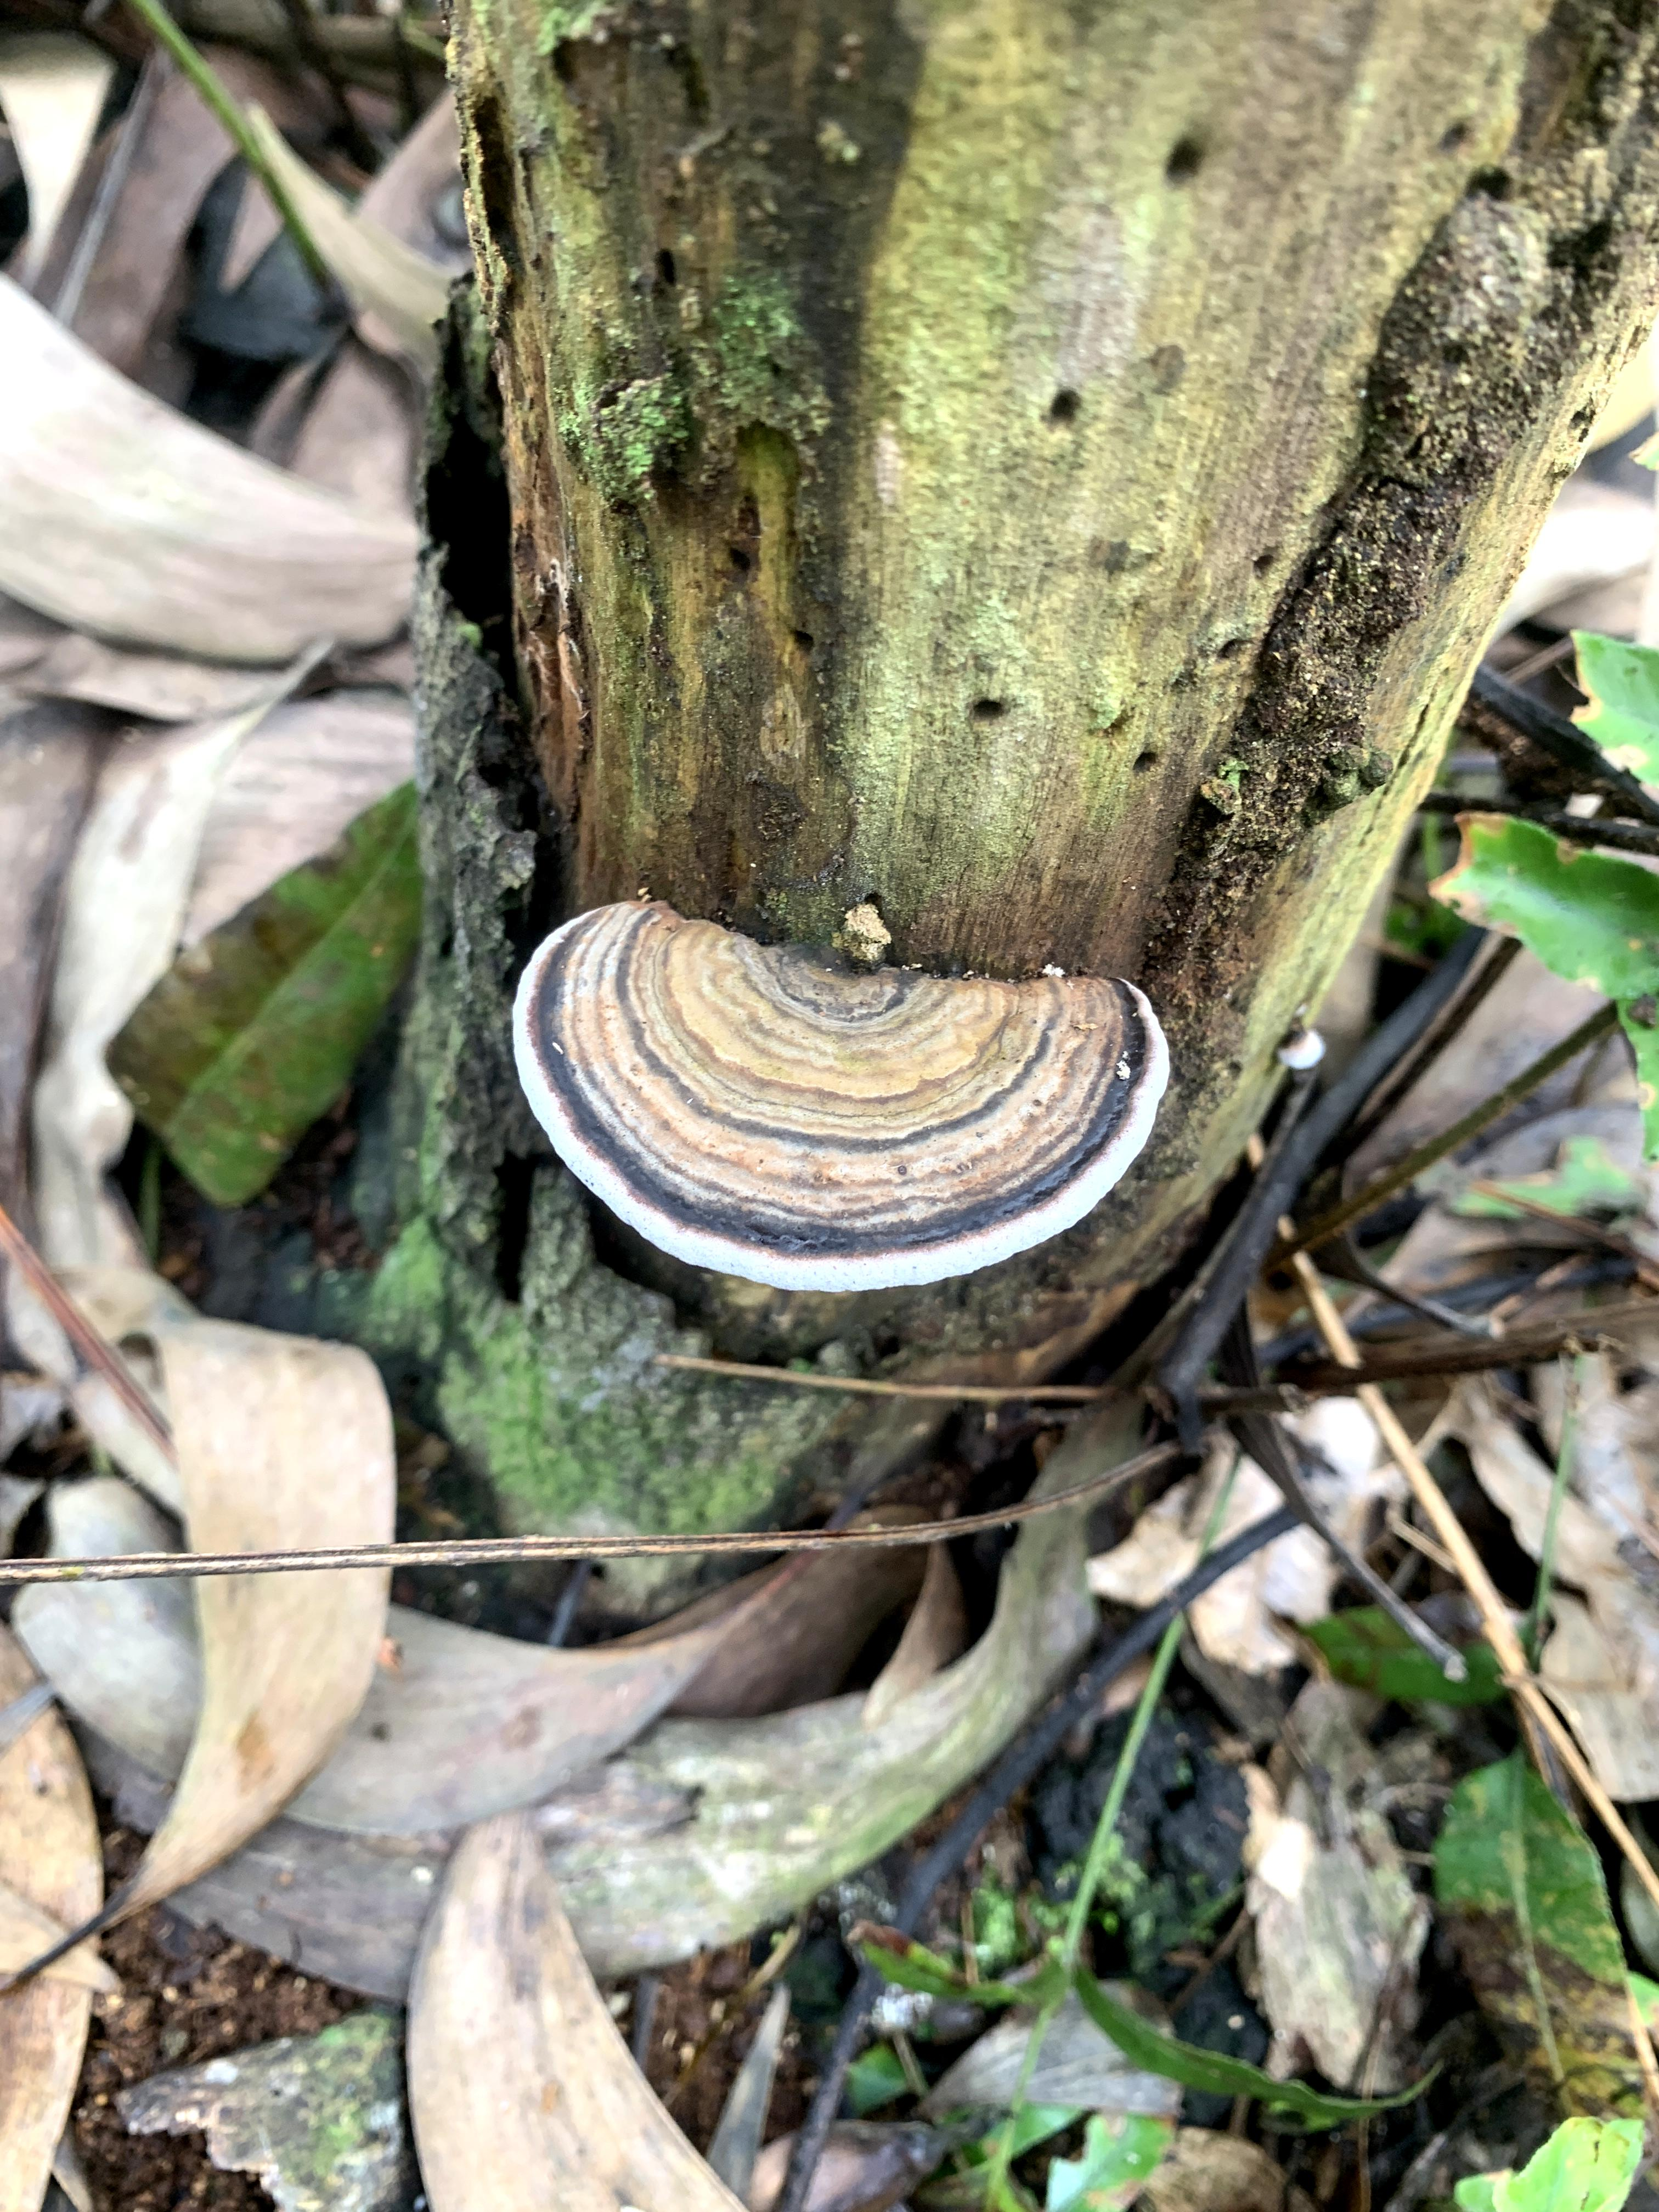Ganoderma - Fruit Body: (455, 890, 1208, 1332)
